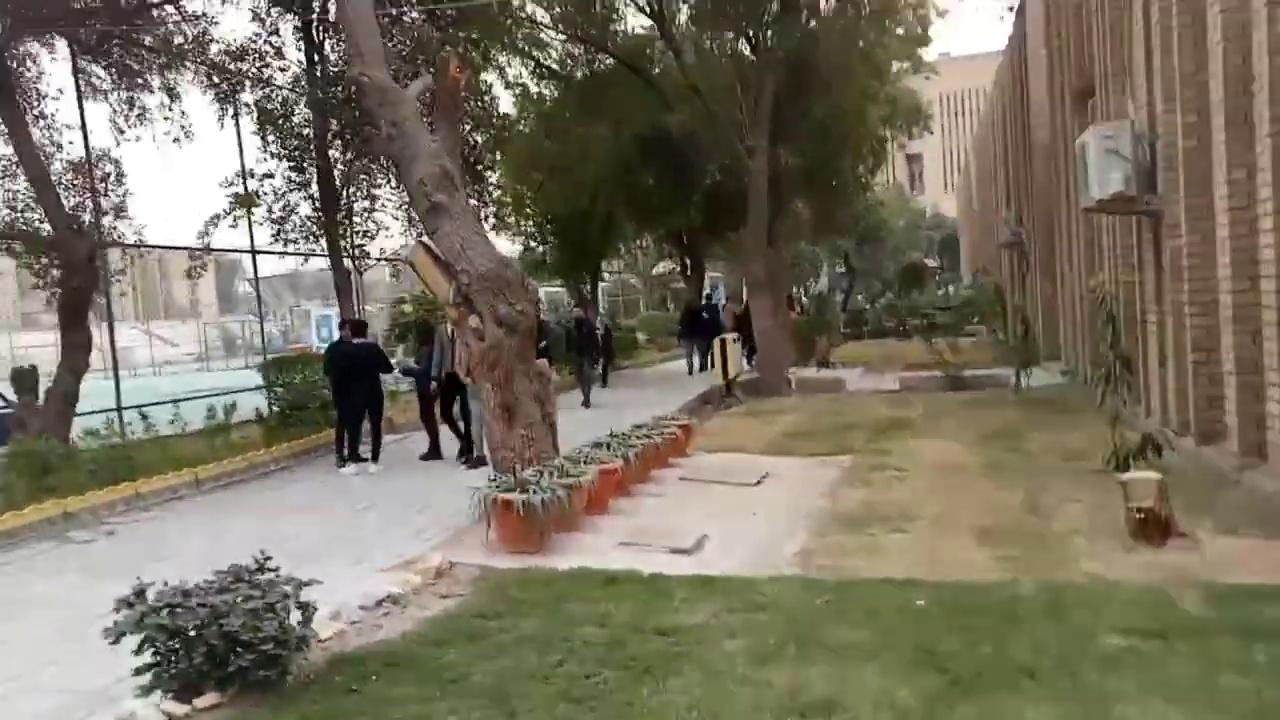person: (321, 317, 394, 475), (396, 318, 444, 460), (430, 319, 474, 463), (570, 306, 601, 408), (598, 322, 615, 388)
tree: (3, 0, 948, 487), (503, 0, 947, 398), (328, 0, 564, 479), (0, 0, 222, 445), (203, 0, 396, 332), (101, 547, 323, 714)
